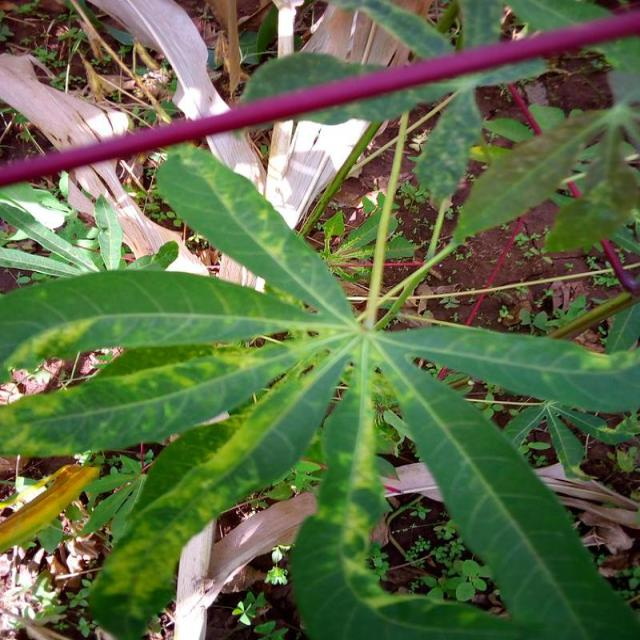Mosaico: (22, 179, 498, 616)
